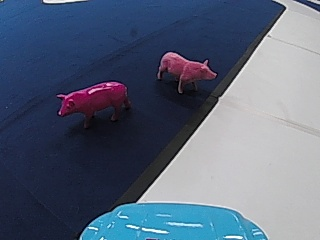pig: (53, 77, 133, 127), (154, 49, 217, 93)
